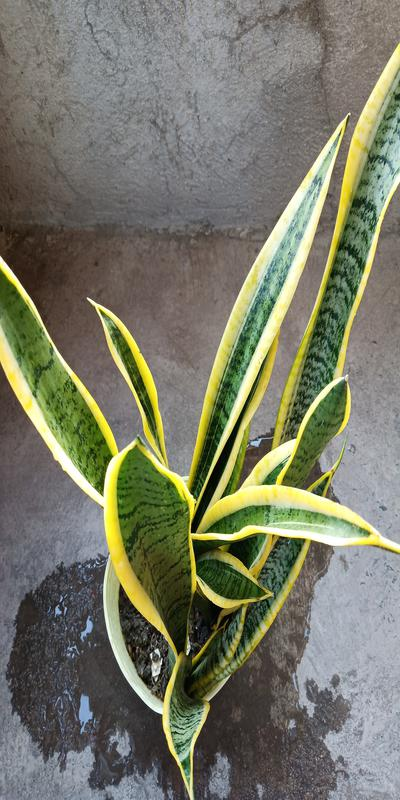Snake plant: (1, 239, 391, 681)
